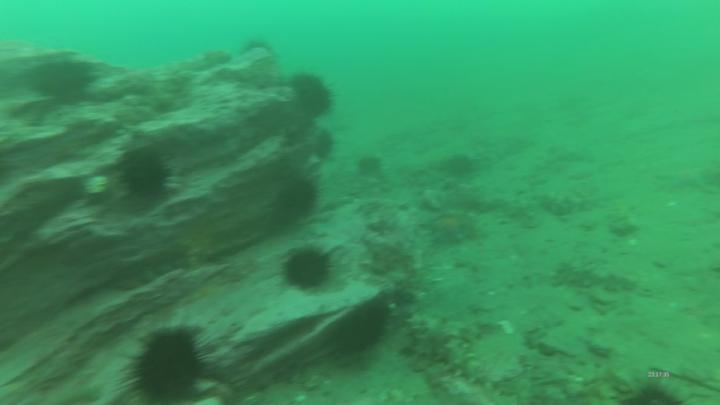echinus: (134, 327, 209, 404), (116, 149, 181, 204), (275, 240, 338, 294), (604, 370, 695, 405), (334, 301, 390, 355), (45, 57, 91, 109), (274, 171, 324, 218), (293, 69, 334, 123), (314, 131, 335, 162)
holothurian: (402, 310, 488, 385)
starfish: (424, 206, 476, 250), (661, 163, 720, 198)
